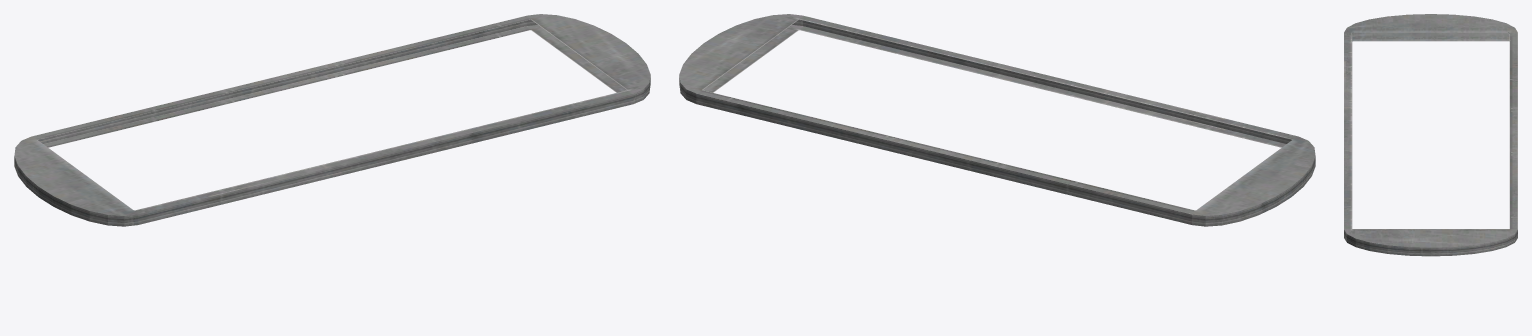
The model's file is frn_all_mdrn_coffee_table_s01_l0.fbx.
The picture shows the model from 3 angles, left to right: view 1: azimuth 30°, elevation 25°; view 2: azimuth 150°, elevation 25°; view 3: azimuth 270°, elevation 25°; orthographic projection. The views are drawn at different scales.
Parts seen in each view (by area): view 1: mesh_node; view 2: mesh_node; view 3: mesh_node.
Part boxes in pixels (left/top/right/bottom): mesh_node: left=14, top=14, right=650, bottom=226; mesh_node: left=679, top=14, right=1315, bottom=226; mesh_node: left=1344, top=14, right=1517, bottom=256.
Size of the model in its own units: 3.54 by 0.7908 by 1.11.
Materials: 1 (1 with a texture image).
